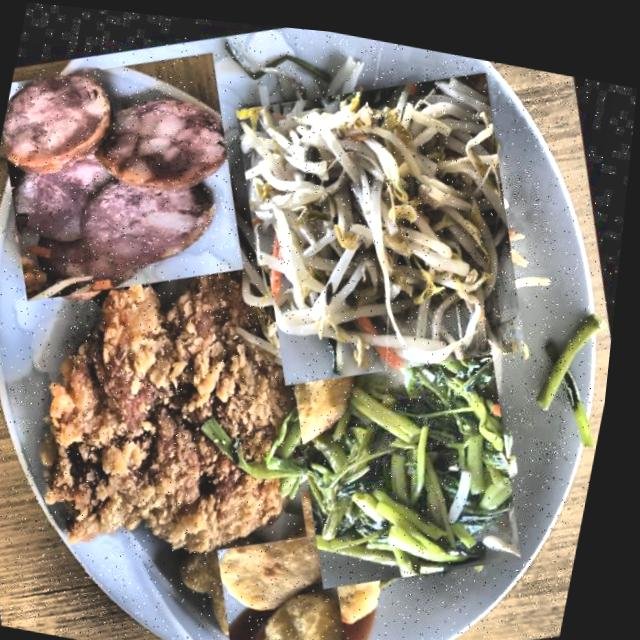Food: (190, 20, 579, 421), (0, 217, 362, 610), (0, 13, 285, 335), (265, 311, 568, 612), (181, 470, 407, 640)
